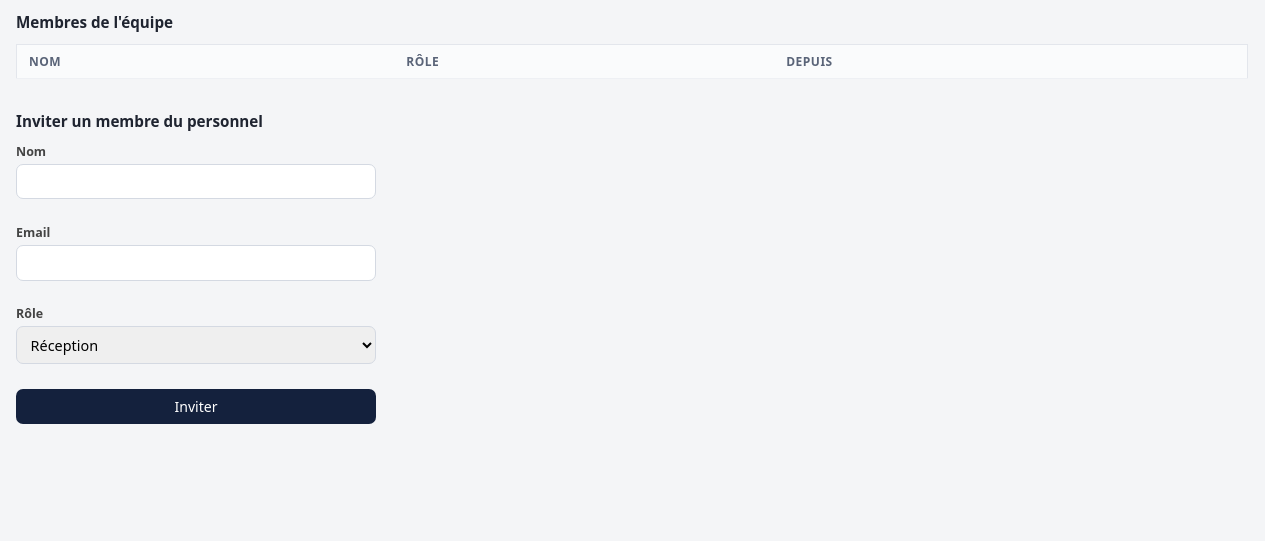
it: Equipe › ne signale pas l'invitation comme échouée si seul le rechargement du trombinoscope échoue
Type "X" into the field labelled "Nom".
click(196, 182); type("X")  # box [16,164,376,199]
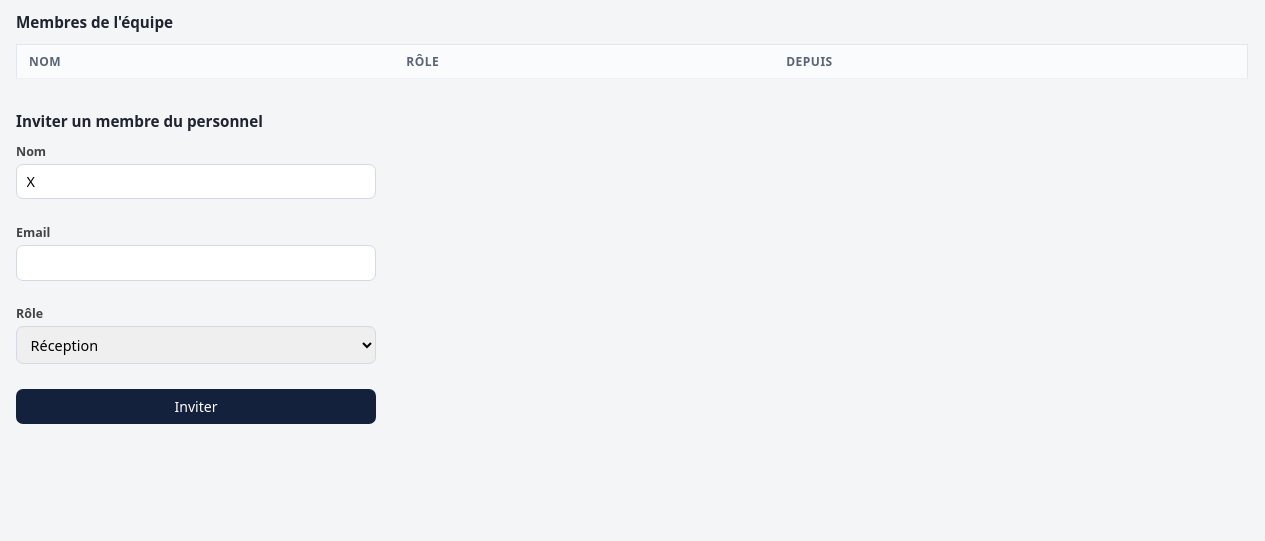
Type "x@aryv.cd" into the field labelled "Email".
click(196, 263); type("x@aryv.cd")  # box [16,245,376,281]
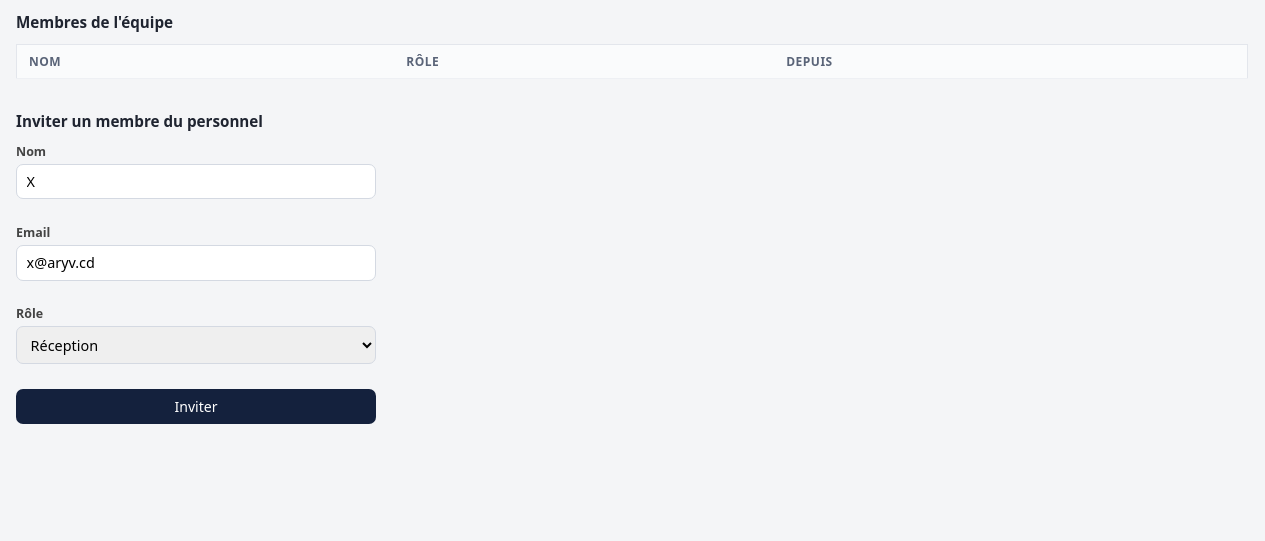
Click the button "Inviter".
click(196, 406)  # box [16,388,376,424]
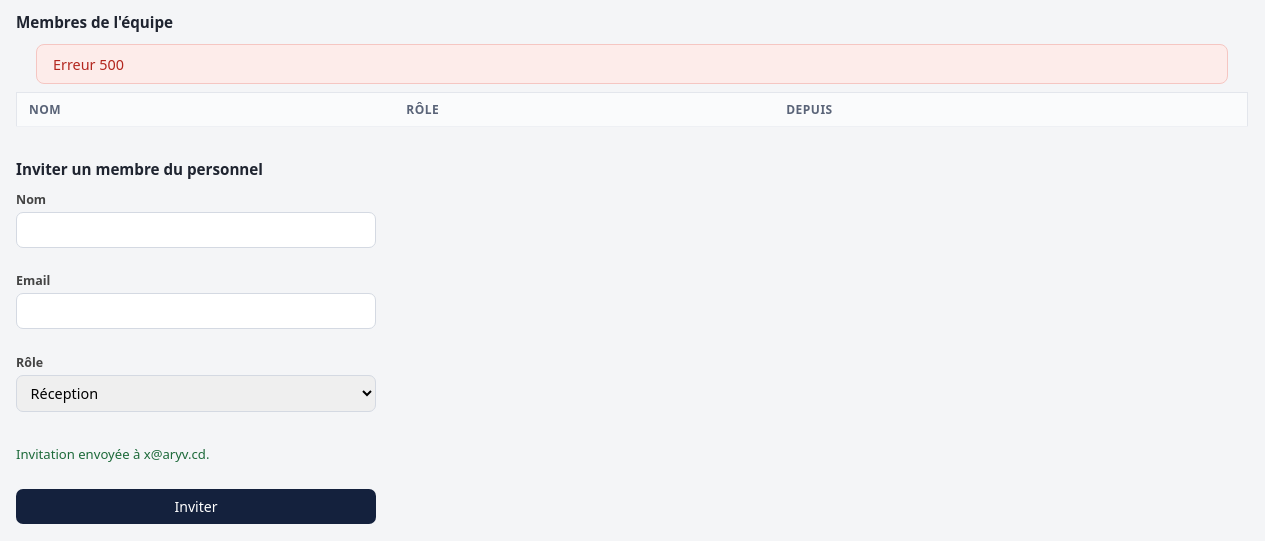
Expected: the text "Invitation envoyée à x@aryv.cd." is shown, [16,445,209,463]
Expected: the text "Erreur 500" is shown, [36,44,1228,84]
